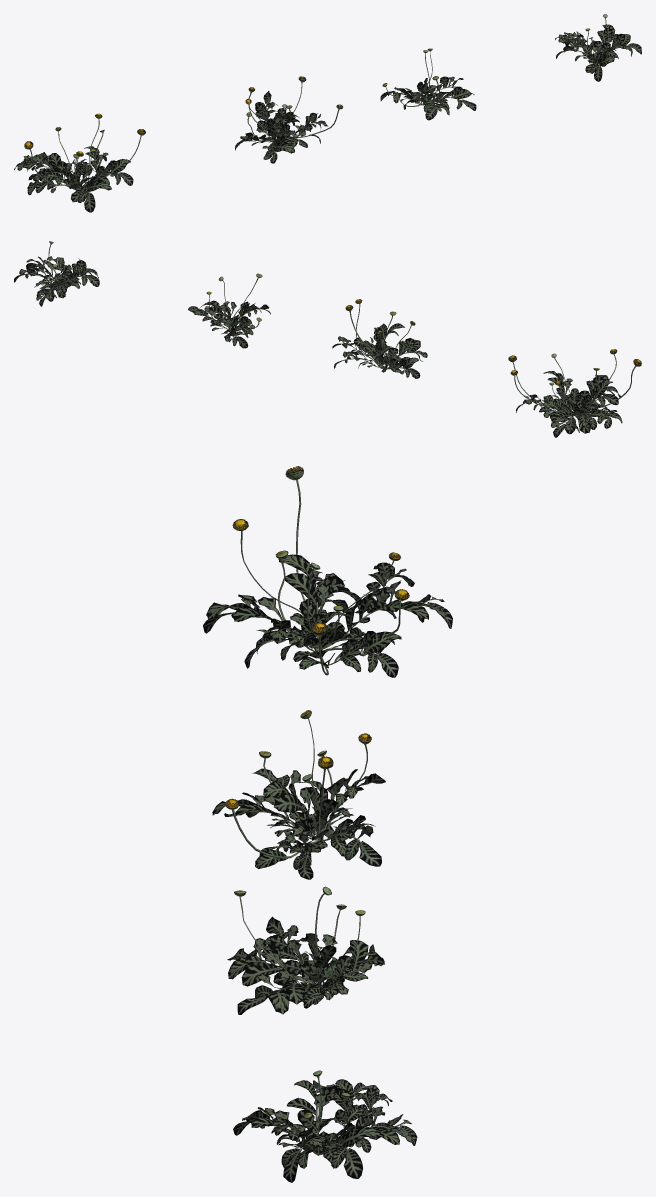
File: flower_stinkkruid.glb
3 views of the same model, one above another, from view 1: azimuth 30°, elevation 25°; view 2: azimuth 150°, elevation 25°; view 3: azimuth 270°, elevation 25° (orthographic). The views are drawn at different scales.
Visible parts, largest first — view 1: flower_stinkkruid_a_LOD0; view 2: flower_stinkkruid_a_LOD0; view 3: flower_stinkkruid_a_LOD0.
Boxes of the visible parts, x1=… form: flower_stinkkruid_a_LOD0: x1=14, y1=14, x2=641, y2=212; flower_stinkkruid_a_LOD0: x1=14, y1=241, x2=641, y2=437; flower_stinkkruid_a_LOD0: x1=203, y1=466, x2=452, y2=1182.
Size of the model in its own units: 1.71 by 0.1782 by 0.3004.
Materials: 1 (1 with a texture image).
